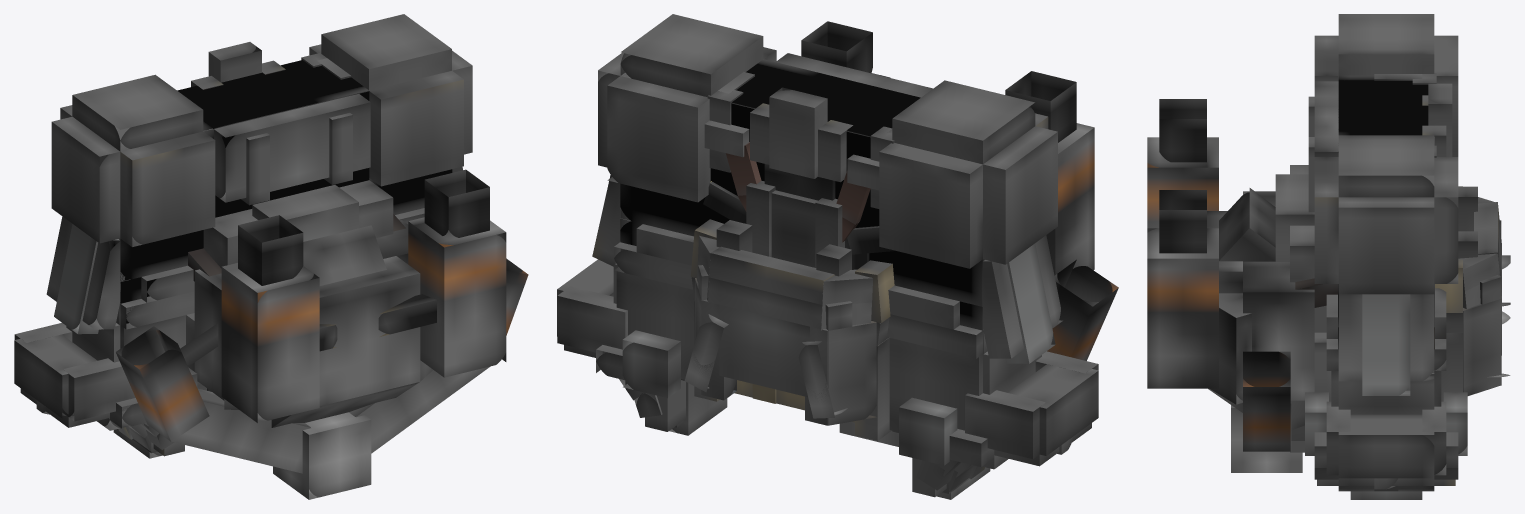
File: t60_j_armor.obj
3 renders of one model, left to right at view 1: azimuth 30°, elevation 25°; view 2: azimuth 150°, elevation 25°; view 3: azimuth 270°, elevation 25°, orthographic. The views are drawn at different scales.
Parts seen in each view (by area): view 1: Body, RightArm, LeftArm; view 2: Body, RightArm, LeftArm; view 3: Body, LeftArm, RightArm.
Part boxes in pixels (box(x1,y1,x2,y2)): Body: box(116, 42, 528, 499); RightArm: box(14, 74, 215, 458); LeftArm: box(309, 14, 472, 224); Body: box(684, 21, 1118, 446); RightArm: box(879, 80, 1098, 499); LeftArm: box(557, 14, 776, 435); Body: box(1147, 73, 1510, 472); LeftArm: box(1305, 135, 1467, 499); RightArm: box(1314, 14, 1458, 156).
Size of the model in its own units: 21.6 by 16.8 by 15.2.
